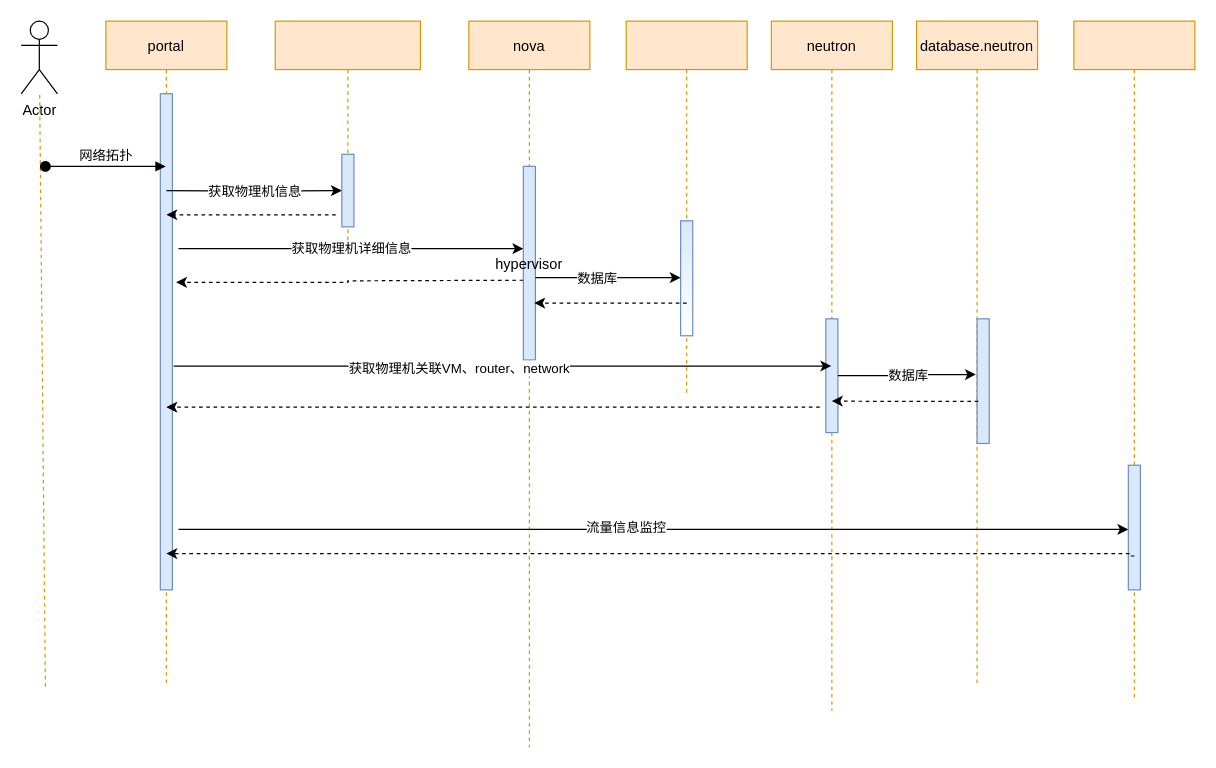
The diagram is 1216 pixels wide and 768 high, and some of its shapes have lost their labels. Here are the shapes that lost their labels. From the top down, the box of each, then its label:
(274, 20, 420, 251): database.dashboard
(625, 20, 747, 396): database.nova
(1073, 20, 1195, 699): monitor
